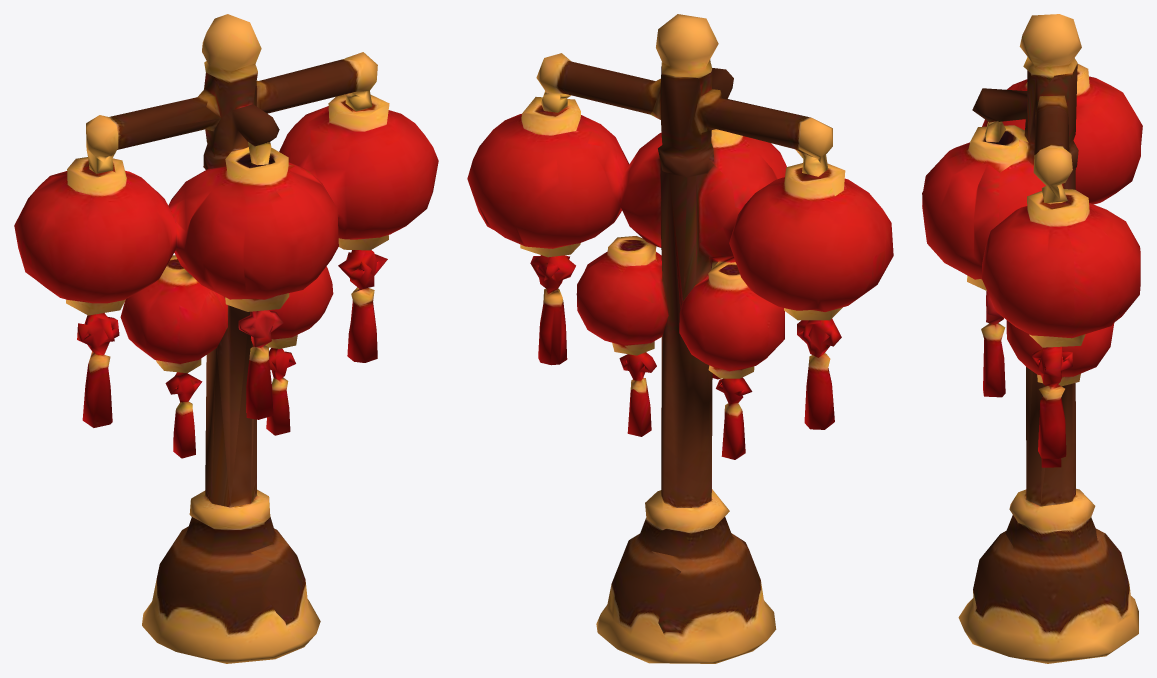
File: lunarlanterns.glb
3 views of the same model, side by side, from view 1: azimuth 30°, elevation 25°; view 2: azimuth 150°, elevation 25°; view 3: azimuth 270°, elevation 25° (orthographic).
Visible parts, largest first — view 1: model; view 2: model; view 3: model.
Boxes of the visible parts, x1=… form: model: x1=14, y1=14, x2=438, y2=663; model: x1=467, y1=14, x2=893, y2=663; model: x1=922, y1=14, x2=1142, y2=663.
Size of the model in its own units: 1.3 by 1.91 by 0.619.
Materials: 1 (1 with a texture image).
